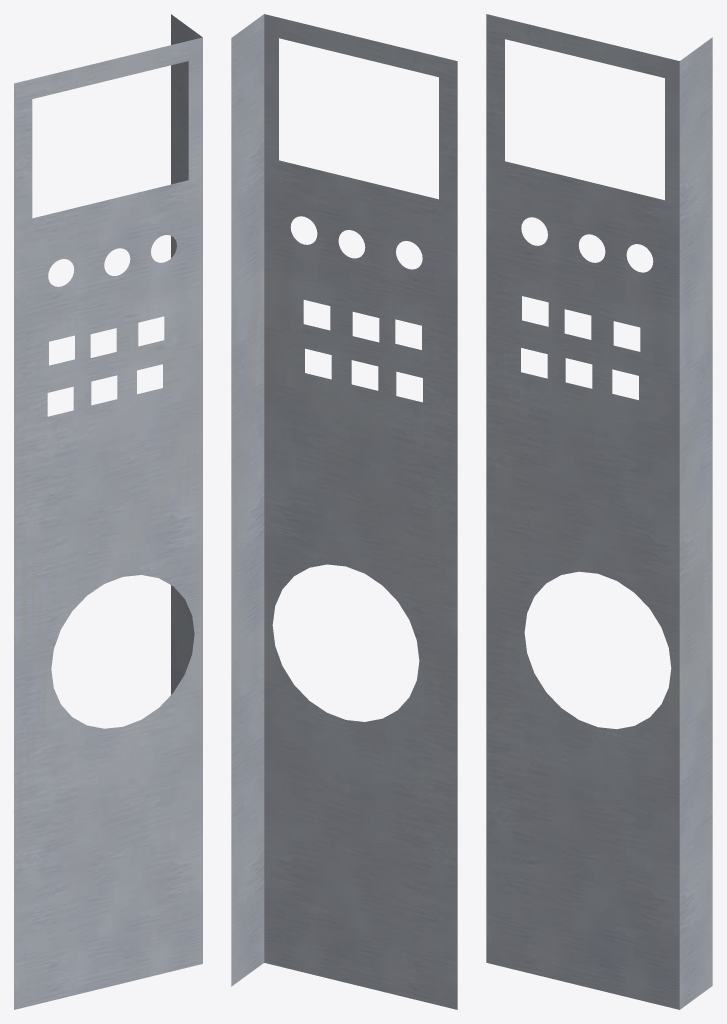
File: original-15.obj
The picture shows the model from 3 angles, left to right: view 1: azimuth 30°, elevation 25°; view 2: azimuth 150°, elevation 25°; view 3: azimuth 330°, elevation 25°; orthographic projection. The views are drawn at different scales.
Parts seen in each view (by area): view 1: #ID136; view 2: #ID136; view 3: #ID136.
Boxes of the visible parts, x1,y1,x2,y2 form: #ID136: [14, 14, 202, 1009]; #ID136: [231, 14, 457, 1009]; #ID136: [486, 14, 712, 1009].
Size of the model in its own units: 0.162 by 0.7598 by 0.0475.
